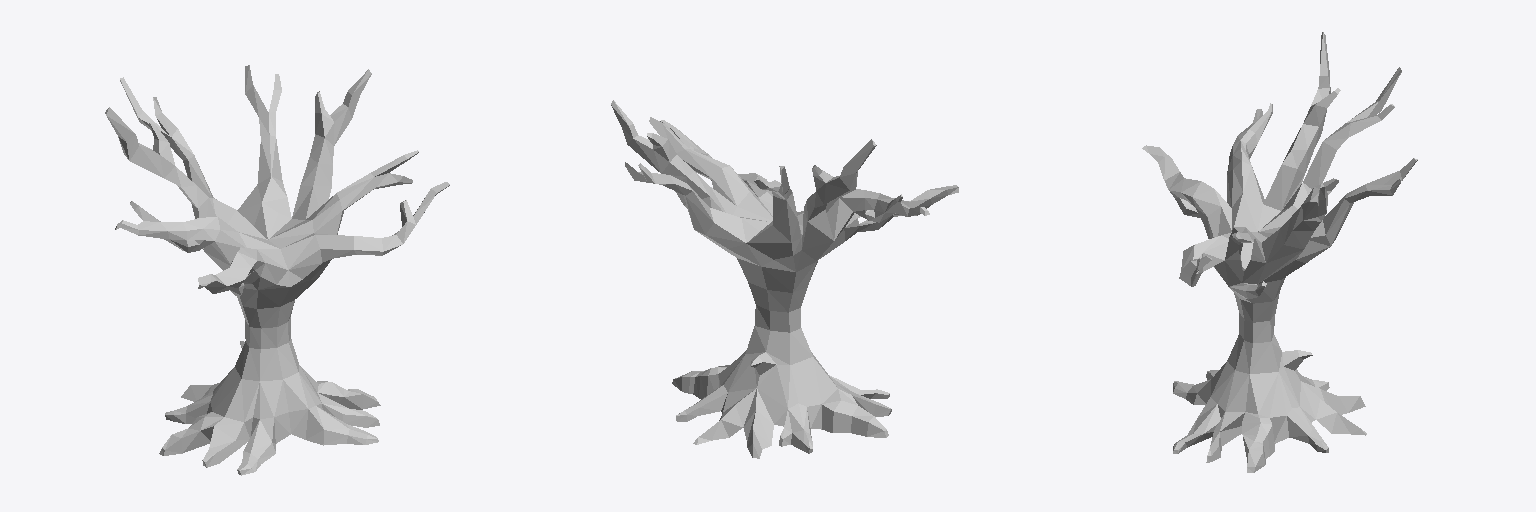
The model's file is Tree Of Life.obj.
The picture shows the model from 3 angles: view 1: azimuth 30°, elevation 25°; view 2: azimuth 150°, elevation 25°; view 3: azimuth 270°, elevation 25°; orthographic projection.
Visible parts, largest first — view 1: Xerneas_Tree; view 2: Xerneas_Tree; view 3: Xerneas_Tree.
Part boxes in pixels (left/top/right/bottom): Xerneas_Tree: left=105, top=65, right=449, bottom=475; Xerneas_Tree: left=611, top=100, right=958, bottom=458; Xerneas_Tree: left=1142, top=32, right=1417, bottom=472.
Bounding box in the file's own units: 2.79 × 2.88 × 2.2.